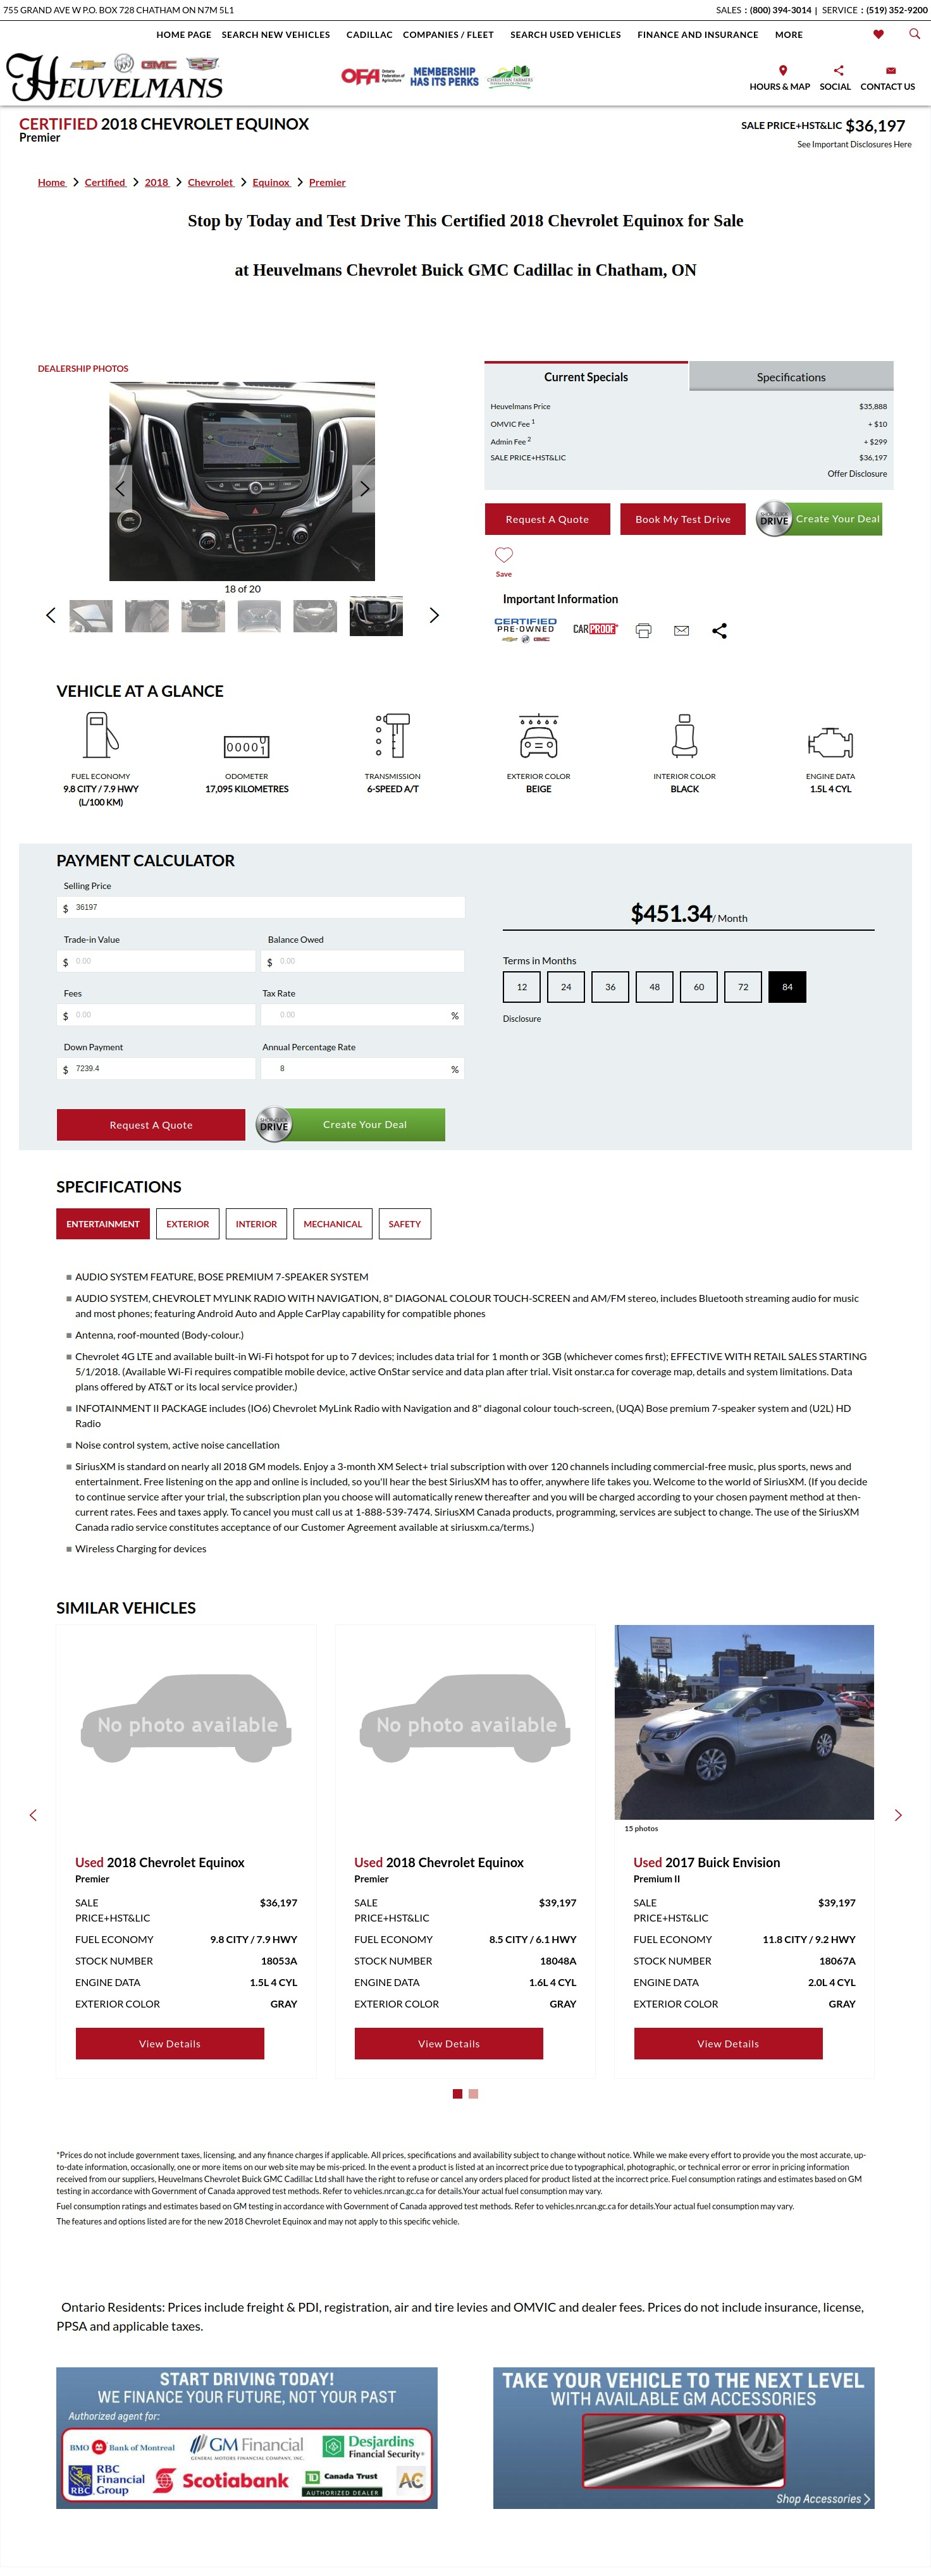car: (430, 608, 440, 624)
